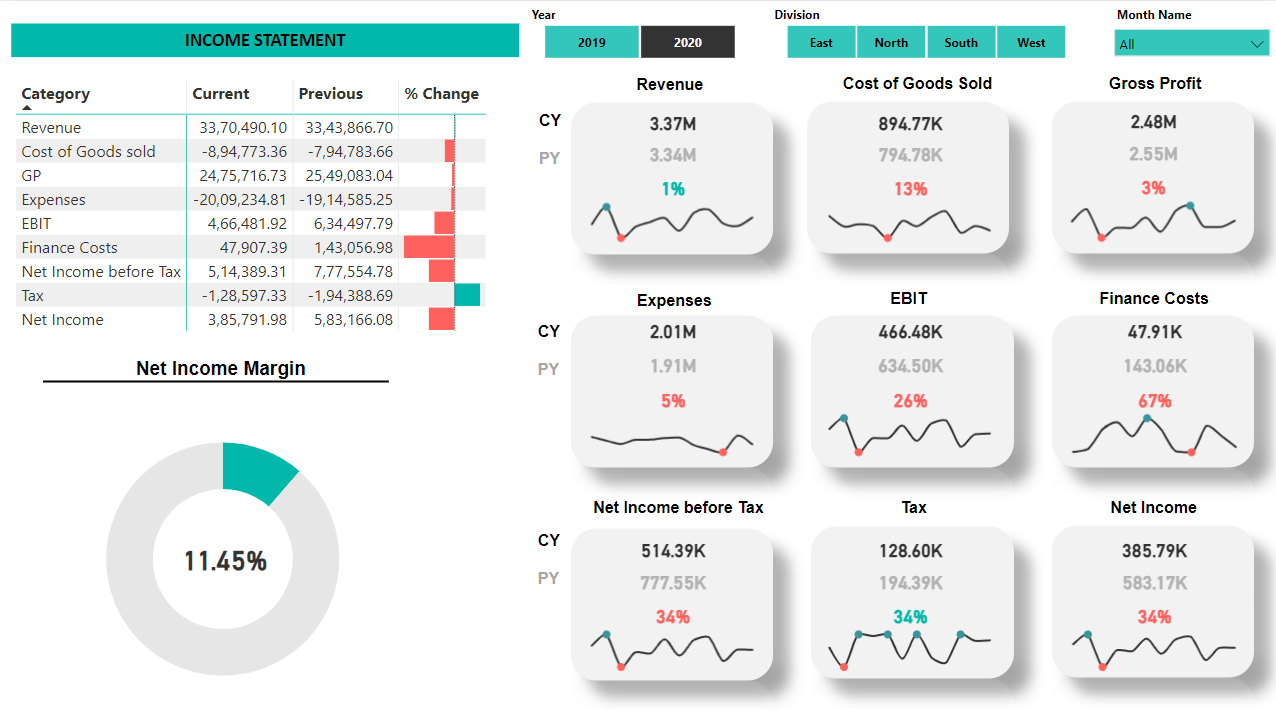

What the dashboard file says about the page in this screenshot:
{"tool":"powerbi","page":{"name":"Page 1","canvas":[1280,720],"ordinal":0},"visuals":[{"type":"pivotTable","fields":{"Rows":["Layout.Category"],"Values":["My Measure.Current","My Measure.Previous","My Measure.% Change"]},"box":[10.9,73.6,507.9,277.5],"z":0},{"type":"PBI_CV_25997FEB_F466_44FA_B562_AC4063283C4C","fields":{"axis":["Calendar.Month Name"],"measure":["My Measure.GP"]},"box":[1053.2,187.2,202.7,60.1],"z":0,"group":"g17"},{"type":"PBI_CV_25997FEB_F466_44FA_B562_AC4063283C4C","fields":{"axis":["Calendar.Month Name"],"measure":["My Measure.Revenue"]},"box":[574.3,188.3,200.3,59.1],"z":0,"group":"g18"},{"type":"PBI_CV_25997FEB_F466_44FA_B562_AC4063283C4C","fields":{"axis":["Calendar.Month Name"],"measure":["My Measure.Cost of Goods Sold"]},"box":[810.7,188.3,200.3,59.1],"z":0,"group":"g10"},{"type":"PBI_CV_25997FEB_F466_44FA_B562_AC4063283C4C","fields":{"axis":["Calendar.Month Name"],"measure":["My Measure.Expenses"]},"box":[574.3,400,200.3,62.1],"z":0,"group":"g13"},{"type":"PBI_CV_25997FEB_F466_44FA_B562_AC4063283C4C","fields":{"axis":["Calendar.Month Name"],"measure":["My Measure.EBIT"]},"box":[810.7,400,200.3,62.1],"z":0,"group":"g14"},{"type":"PBI_CV_25997FEB_F466_44FA_B562_AC4063283C4C","fields":{"axis":["Calendar.Month Name"],"measure":["My Measure.Finance Costs"]},"box":[1054.7,400,202.7,62.1],"z":0,"group":"g12"},{"type":"PBI_CV_25997FEB_F466_44FA_B562_AC4063283C4C","fields":{"measure":["My Measure.Net Income before Tax"],"axis":["Calendar.Month Name"]},"box":[574.3,616.2,200.3,60.6],"z":0,"group":"g11"},{"type":"PBI_CV_25997FEB_F466_44FA_B562_AC4063283C4C","fields":{"measure":["My Measure.Tax"],"axis":["Calendar.Month Name"]},"box":[810.7,616.2,200.3,60.6],"z":0,"group":"g15"},{"type":"PBI_CV_25997FEB_F466_44FA_B562_AC4063283C4C","fields":{"measure":["My Measure.Net Income"],"axis":["Calendar.Month Name"]},"box":[1054.4,616.2,201.5,60.6],"z":0,"group":"g16"},{"type":"slicer","fields":{"Values":["Calendar.Year"]},"box":[518.8,0,240.1,63.9],"z":1000},{"type":"group","id":"g1","title":"Group 1","box":[1102.5,102.5,102.7,103.2],"z":1000,"group":"g17"},{"type":"group","id":"g2","title":"Group 1","box":[623,105,101.5,101.5],"z":1000,"group":"g18"},{"type":"group","id":"g3","title":"Group 1","box":[859.4,105,101.5,101.5],"z":1000,"group":"g10"},{"type":"group","id":"g4","title":"Group 1","box":[623,312.5,101.5,106.6],"z":1000,"group":"g13"},{"type":"group","id":"g5","title":"Group 1","box":[859.4,312.5,101.5,106.6],"z":1000,"group":"g14"},{"type":"group","id":"g6","title":"Group 1","box":[1104,312.5,102.7,106.6],"z":1000,"group":"g12"},{"type":"group","id":"g7","title":"Group 1","box":[623,530.8,101.5,104],"z":1000,"group":"g11"},{"type":"group","id":"g8","title":"Group 1","box":[859.4,530.8,101.5,104],"z":1000,"group":"g15"},{"type":"group","id":"g9","title":"Group 1","box":[1103.4,530.8,102.1,104],"z":1000,"group":"g16"},{"type":"donutChart","fields":{"Y":["My Measure.Net Income Margin","My Measure.Inv Net Margin","My Measure.Current"]},"box":[10.9,407.8,423.5,301.6],"z":2000},{"type":"card","fields":{"Values":["My Measure.Net Income Margin"]},"box":[166.2,522.5,117.5,72.5],"z":3000},{"type":"group","id":"g10","title":"Group 2","box":[810.7,105,200.3,142.4],"z":4000},{"type":"card","fields":{"Values":["KPIs.GP Current"]},"box":[1102.5,102.5,102.7,37],"z":5000,"group":"g1"},{"type":"card","fields":{"Values":["KPIs.Revenue Current"]},"box":[623,105,101.5,36.3],"z":5000,"group":"g2"},{"type":"card","fields":{"Values":["KPIs.COGS Current"]},"box":[859.4,105,101.5,36.3],"z":5000,"group":"g3"},{"type":"card","fields":{"Values":["KPIs.Expenses Current"]},"box":[623,312.5,101.5,38.2],"z":5000,"group":"g4"},{"type":"card","fields":{"Values":["KPIs.EBIT Current"]},"box":[859.4,312.5,101.5,38.2],"z":5000,"group":"g5"},{"type":"card","fields":{"Values":["KPIs.Finance Costs Current"]},"box":[1104,312.5,102.7,38.2],"z":5000,"group":"g6"},{"type":"group","id":"g11","title":"Group 2","box":[574.3,530.8,200.3,146],"z":5000},{"type":"card","fields":{"Values":["KPIs.NIBT Current"]},"box":[623,530.8,101.5,37.3],"z":5000,"group":"g7"},{"type":"card","fields":{"Values":["KPIs.Tax Current"]},"box":[859.4,530.8,101.5,37.3],"z":5000,"group":"g8"},{"type":"card","fields":{"Values":["KPIs.Net Income Current"]},"box":[1103.4,530.8,102.1,37.3],"z":5000,"group":"g9"},{"type":"card","fields":{"Values":["KPIs.GP Previous"]},"box":[1102.5,134.8,102.7,37],"z":6000,"group":"g1"},{"type":"card","fields":{"Values":["KPIs.Revenue Previous"]},"box":[623,136.8,101.5,36.3],"z":6000,"group":"g2"},{"type":"card","fields":{"Values":["KPIs.COGS Previous"]},"box":[859.4,136.8,101.5,36.3],"z":6000,"group":"g3"},{"type":"group","id":"g12","title":"Group 2","box":[1054.7,312.5,202.7,149.6],"z":6000},{"type":"card","fields":{"Values":["KPIs.Expenses Previous"]},"box":[623,345.9,101.5,38.2],"z":6000,"group":"g4"},{"type":"card","fields":{"Values":["KPIs.EBIT Previous"]},"box":[859.4,345.9,101.5,38.2],"z":6000,"group":"g5"},{"type":"card","fields":{"Values":["KPIs.Finance Costs Previous"]},"box":[1104,345.9,102.7,38.2],"z":6000,"group":"g6"},{"type":"card","fields":{"Values":["KPIs.NIBT Previous"]},"box":[623,563.4,101.5,37.3],"z":6000,"group":"g7"},{"type":"card","fields":{"Values":["KPIs.Tax Previous"]},"box":[859.4,563.4,101.5,37.3],"z":6000,"group":"g8"},{"type":"card","fields":{"Values":["KPIs.Net Income Previous"]},"box":[1103.4,563.4,102.1,37.3],"z":6000,"group":"g9"},{"type":"card","fields":{"Values":["KPIs.GP % Change"]},"box":[1102.5,168.7,102.7,37],"z":7000,"group":"g1"},{"type":"card","fields":{"Values":["KPIs.Revenue % Change"]},"box":[623,170.1,101.5,36.3],"z":7000,"group":"g2"},{"type":"card","fields":{"Values":["KPIs.COGS % Change"]},"box":[859.4,170.1,101.5,36.3],"z":7000,"group":"g3"},{"type":"group","id":"g13","title":"Group 2","box":[574.3,312.5,200.3,149.6],"z":7000},{"type":"card","fields":{"Values":["KPIs.Expenses % Change"]},"box":[623,380.9,101.5,38.2],"z":7000,"group":"g4"},{"type":"card","fields":{"Values":["KPIs.EBIT % Change"]},"box":[859.4,380.9,101.5,38.2],"z":7000,"group":"g5"},{"type":"card","fields":{"Values":["KPIs.Finance Costs % Change"]},"box":[1104,380.9,102.7,38.2],"z":7000,"group":"g6"},{"type":"card","fields":{"Values":["KPIs.NIBT % Change"]},"box":[623,597.6,101.5,37.3],"z":7000,"group":"g7"},{"type":"card","fields":{"Values":["KPIs.Tax % Change"]},"box":[859.4,597.6,101.5,37.3],"z":7000,"group":"g8"},{"type":"card","fields":{"Values":["KPIs.Net Income % Change"]},"box":[1103.4,597.6,102.1,37.3],"z":7000,"group":"g9"},{"type":"group","id":"g14","title":"Group 2","box":[810.7,312.5,200.3,149.6],"z":8000},{"type":"group","id":"g15","title":"Group 2","box":[810.7,530.8,200.3,146],"z":9000},{"type":"group","id":"g16","title":"Group 2","box":[1054.4,530.8,201.5,146],"z":10000},{"type":"group","id":"g17","title":"Group 2","box":[1053.2,102.5,202.7,144.8],"z":11000},{"type":"slicer","fields":{"Values":["Division.Division"]},"box":[761.3,0,328.2,63.9],"z":12000},{"type":"slicer","fields":{"Values":["Calendar.Month Name"]},"box":[1103.8,0,176.1,63.9],"z":13000},{"type":"group","id":"g18","title":"Group 2","box":[574.3,105,200.3,142.4],"z":14000},{"type":"textbox","box":[10.9,22.9,507.9,33.8],"z":15000}]}

Visuals, with their boxes in screenshot pixels (x1, y1, x2, y2), scaled from the page's 1280x720 canvas onto the 1276x713 screenshot:
pivotTable - Layout.Category x My Measure.Current: select_region(11, 73, 517, 348)
PBI_CV_25997FEB_F466_44FA_B562_AC4063283C4C - Calendar.Month Name x My Measure.GP: select_region(1050, 185, 1252, 245)
PBI_CV_25997FEB_F466_44FA_B562_AC4063283C4C - Calendar.Month Name x My Measure.Revenue: select_region(573, 186, 772, 245)
PBI_CV_25997FEB_F466_44FA_B562_AC4063283C4C - Calendar.Month Name x My Measure.Cost of Goods Sold: select_region(808, 186, 1008, 245)
PBI_CV_25997FEB_F466_44FA_B562_AC4063283C4C - Calendar.Month Name x My Measure.Expenses: select_region(573, 396, 772, 458)
PBI_CV_25997FEB_F466_44FA_B562_AC4063283C4C - Calendar.Month Name x My Measure.EBIT: select_region(808, 396, 1008, 458)
PBI_CV_25997FEB_F466_44FA_B562_AC4063283C4C - Calendar.Month Name x My Measure.Finance Costs: select_region(1051, 396, 1253, 458)
PBI_CV_25997FEB_F466_44FA_B562_AC4063283C4C - My Measure.Net Income before Tax x Calendar.Month Name: select_region(573, 610, 772, 670)
PBI_CV_25997FEB_F466_44FA_B562_AC4063283C4C - My Measure.Tax x Calendar.Month Name: select_region(808, 610, 1008, 670)
PBI_CV_25997FEB_F466_44FA_B562_AC4063283C4C - My Measure.Net Income x Calendar.Month Name: select_region(1051, 610, 1252, 670)
slicer - Calendar.Year: select_region(517, 0, 757, 63)
"Group 1" group: select_region(1099, 102, 1201, 204)
"Group 1" group: select_region(621, 104, 722, 204)
"Group 1" group: select_region(857, 104, 958, 204)
"Group 1" group: select_region(621, 309, 722, 415)
"Group 1" group: select_region(857, 309, 958, 415)
"Group 1" group: select_region(1101, 309, 1203, 415)
"Group 1" group: select_region(621, 526, 722, 629)
"Group 1" group: select_region(857, 526, 958, 629)
"Group 1" group: select_region(1100, 526, 1202, 629)
donutChart - My Measure.Net Income Margin x My Measure.Inv Net Margin: select_region(11, 404, 433, 703)
card - My Measure.Net Income Margin: select_region(166, 517, 283, 589)
"Group 2" group: select_region(808, 104, 1008, 245)
card - KPIs.GP Current: select_region(1099, 102, 1201, 138)
card - KPIs.Revenue Current: select_region(621, 104, 722, 140)
card - KPIs.COGS Current: select_region(857, 104, 958, 140)
card - KPIs.Expenses Current: select_region(621, 309, 722, 347)
card - KPIs.EBIT Current: select_region(857, 309, 958, 347)
card - KPIs.Finance Costs Current: select_region(1101, 309, 1203, 347)
"Group 2" group: select_region(573, 526, 772, 670)
card - KPIs.NIBT Current: select_region(621, 526, 722, 563)
card - KPIs.Tax Current: select_region(857, 526, 958, 563)
card - KPIs.Net Income Current: select_region(1100, 526, 1202, 563)
card - KPIs.GP Previous: select_region(1099, 133, 1201, 170)
card - KPIs.Revenue Previous: select_region(621, 135, 722, 171)
card - KPIs.COGS Previous: select_region(857, 135, 958, 171)
"Group 2" group: select_region(1051, 309, 1253, 458)
card - KPIs.Expenses Previous: select_region(621, 343, 722, 380)
card - KPIs.EBIT Previous: select_region(857, 343, 958, 380)
card - KPIs.Finance Costs Previous: select_region(1101, 343, 1203, 380)
card - KPIs.NIBT Previous: select_region(621, 558, 722, 595)
card - KPIs.Tax Previous: select_region(857, 558, 958, 595)
card - KPIs.Net Income Previous: select_region(1100, 558, 1202, 595)
card - KPIs.GP % Change: select_region(1099, 167, 1201, 204)
card - KPIs.Revenue % Change: select_region(621, 168, 722, 204)
card - KPIs.COGS % Change: select_region(857, 168, 958, 204)
"Group 2" group: select_region(573, 309, 772, 458)
card - KPIs.Expenses % Change: select_region(621, 377, 722, 415)
card - KPIs.EBIT % Change: select_region(857, 377, 958, 415)
card - KPIs.Finance Costs % Change: select_region(1101, 377, 1203, 415)
card - KPIs.NIBT % Change: select_region(621, 592, 722, 629)
card - KPIs.Tax % Change: select_region(857, 592, 958, 629)
card - KPIs.Net Income % Change: select_region(1100, 592, 1202, 629)
"Group 2" group: select_region(808, 309, 1008, 458)
"Group 2" group: select_region(808, 526, 1008, 670)
"Group 2" group: select_region(1051, 526, 1252, 670)
"Group 2" group: select_region(1050, 102, 1252, 245)
slicer - Division.Division: select_region(759, 0, 1086, 63)
slicer - Calendar.Month Name: select_region(1100, 0, 1275, 63)
"Group 2" group: select_region(573, 104, 772, 245)
textbox: select_region(11, 23, 517, 56)
